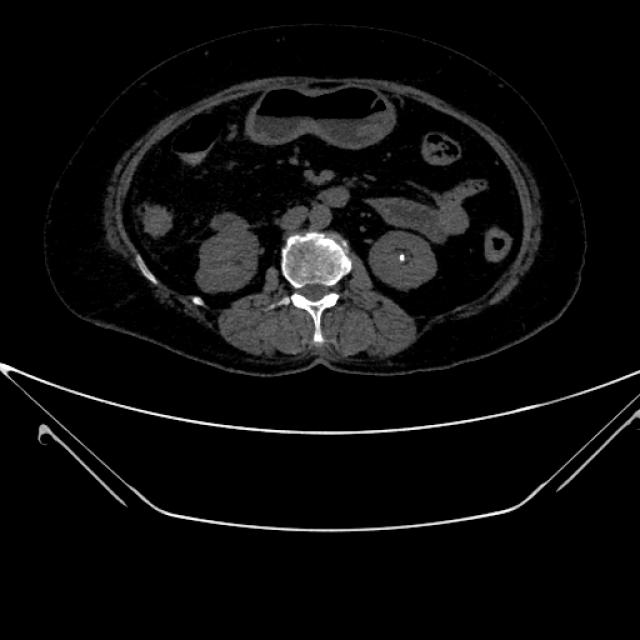kidneystone: (399, 254, 406, 262)
